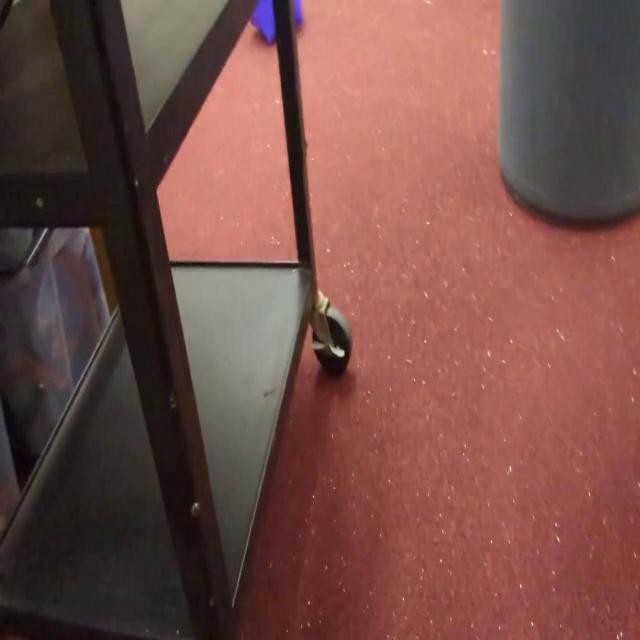frc_cube: (250, 0, 304, 43)
